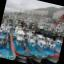fishing boat: (4, 28, 38, 64), (19, 29, 53, 64), (0, 25, 23, 61)
